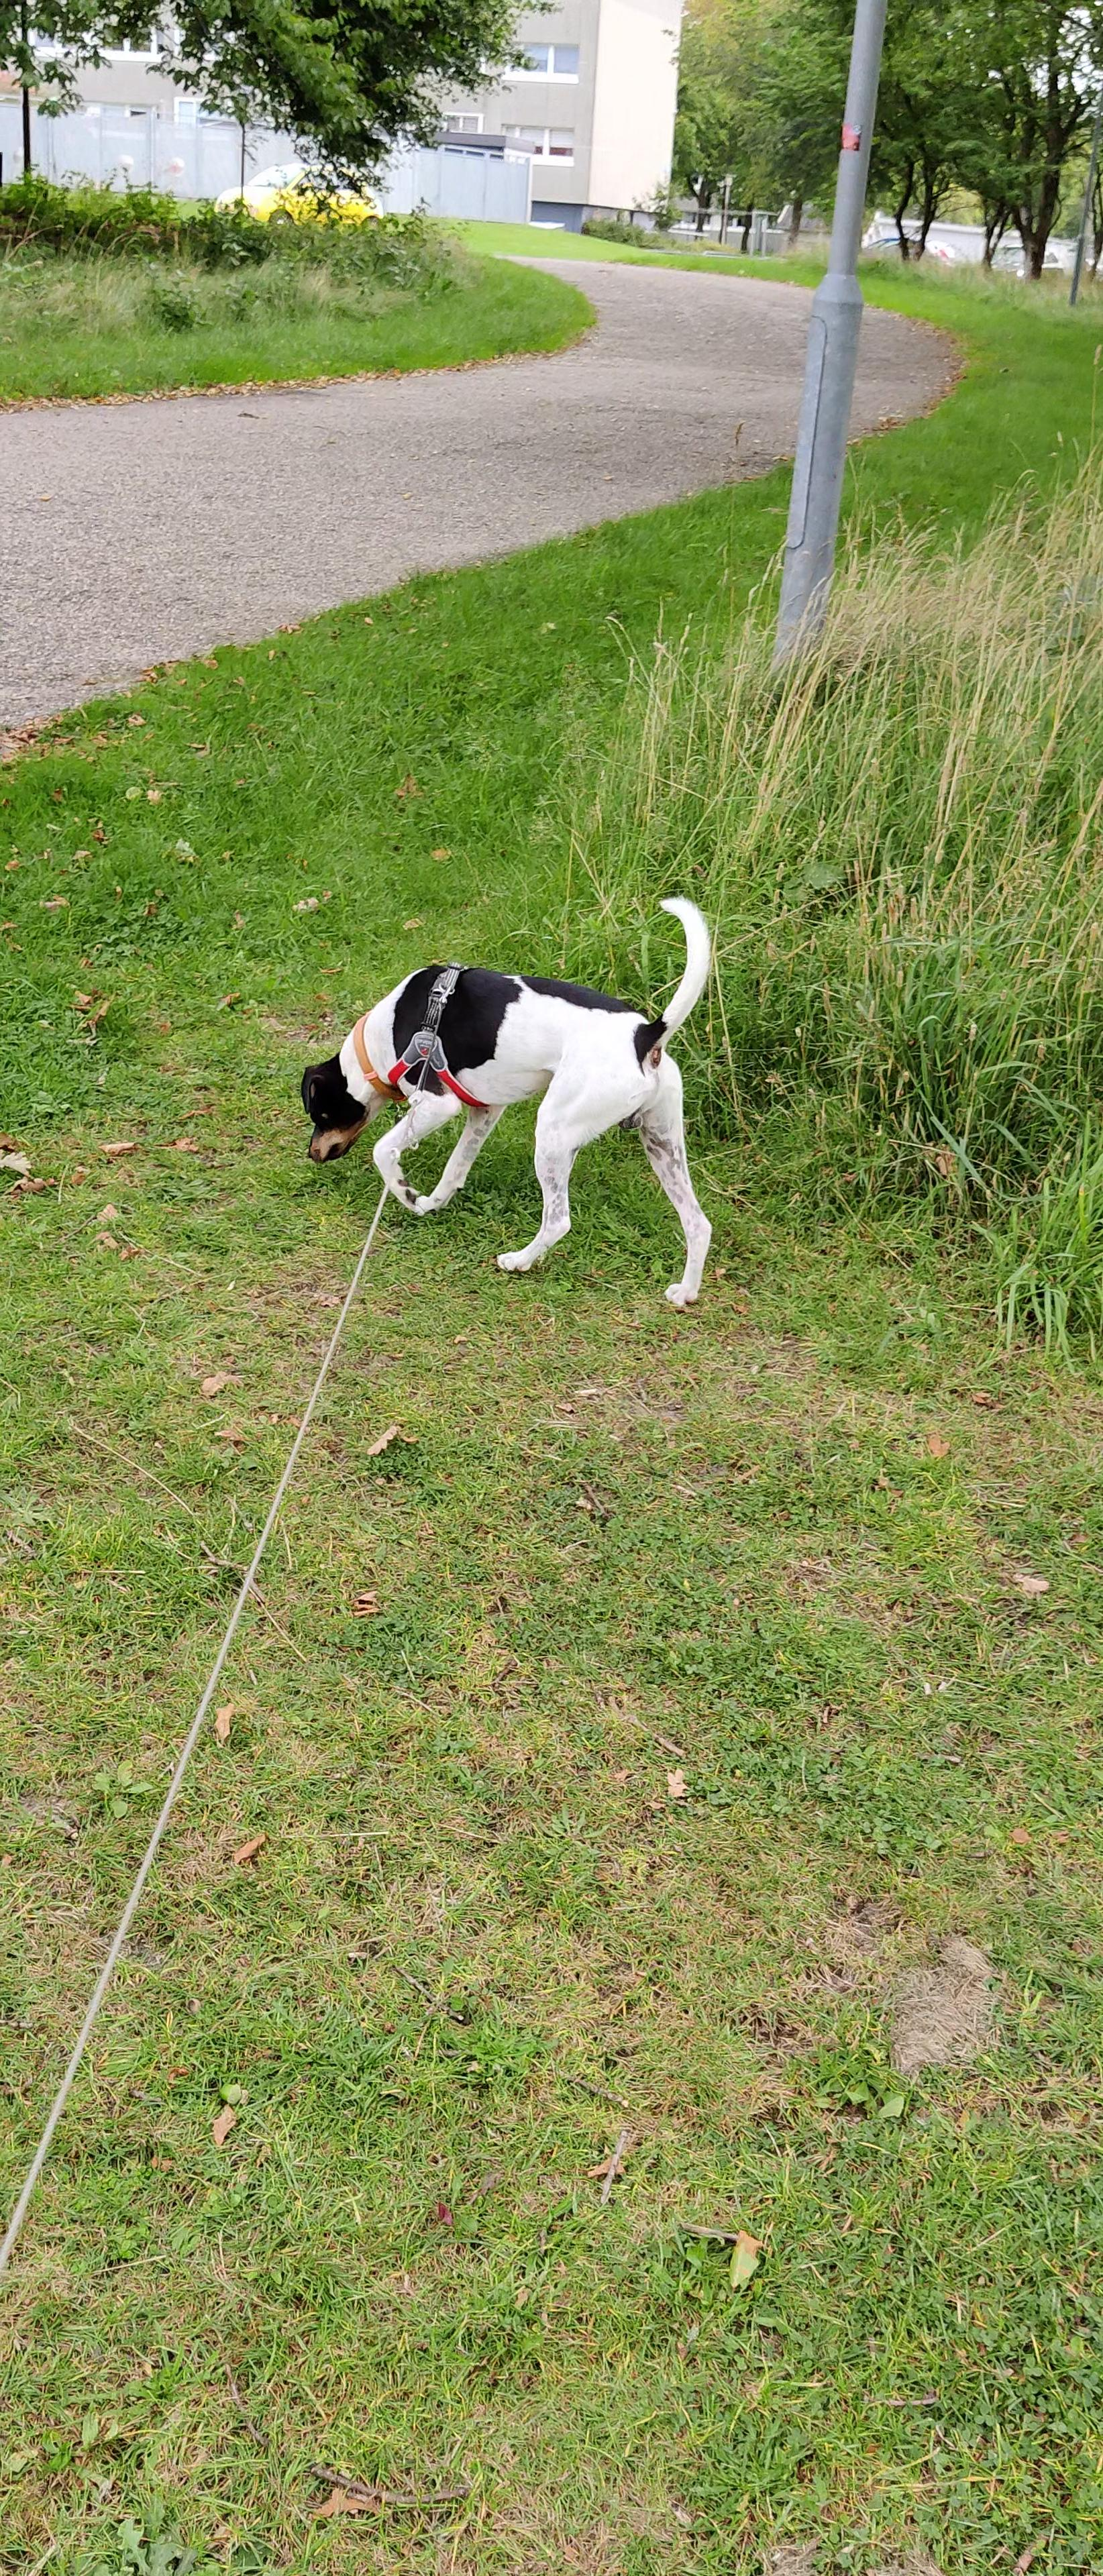Dog: (260, 849, 745, 1339)
